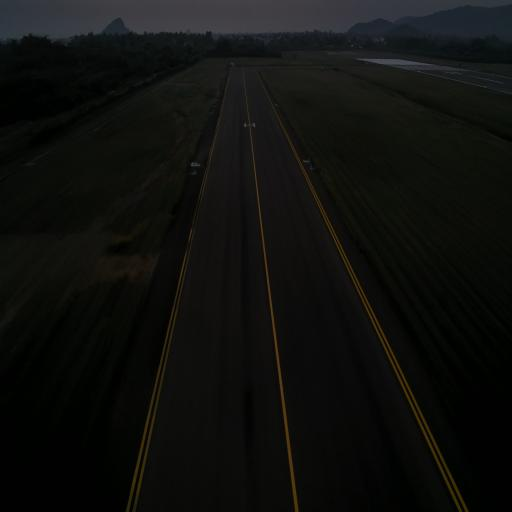on: (309, 161, 314, 170), (193, 166, 197, 175)
